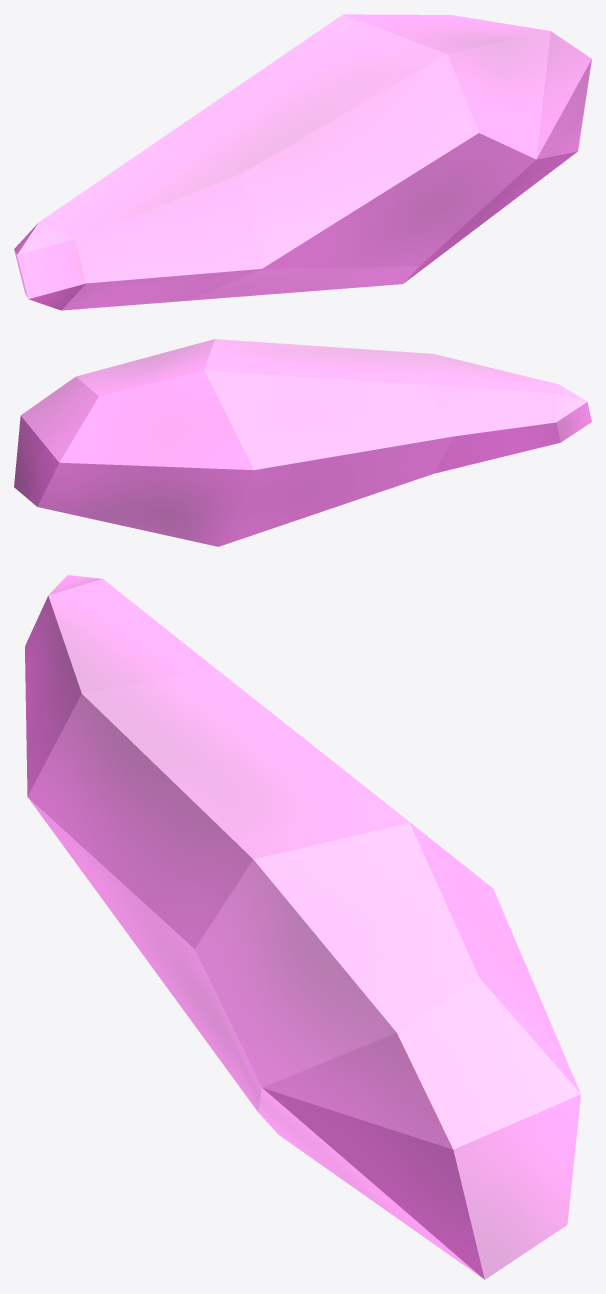
Rendered from Cristal_gem.010.fbx.
The picture shows the model from 3 angles, top to bottom: view 1: azimuth 30°, elevation 25°; view 2: azimuth 150°, elevation 25°; view 3: azimuth 270°, elevation 25°; orthographic projection. The views are drawn at different scales.
Visible parts, largest first — view 1: Crystal_gem.010; view 2: Crystal_gem.010; view 3: Crystal_gem.010.
Boxes of the visible parts, <box> form: Crystal_gem.010: <box>14,14,591,310</box>; Crystal_gem.010: <box>14,339,591,546</box>; Crystal_gem.010: <box>25,575,580,1279</box>.
Size of the model in its own units: 196 by 61.78 by 100.
